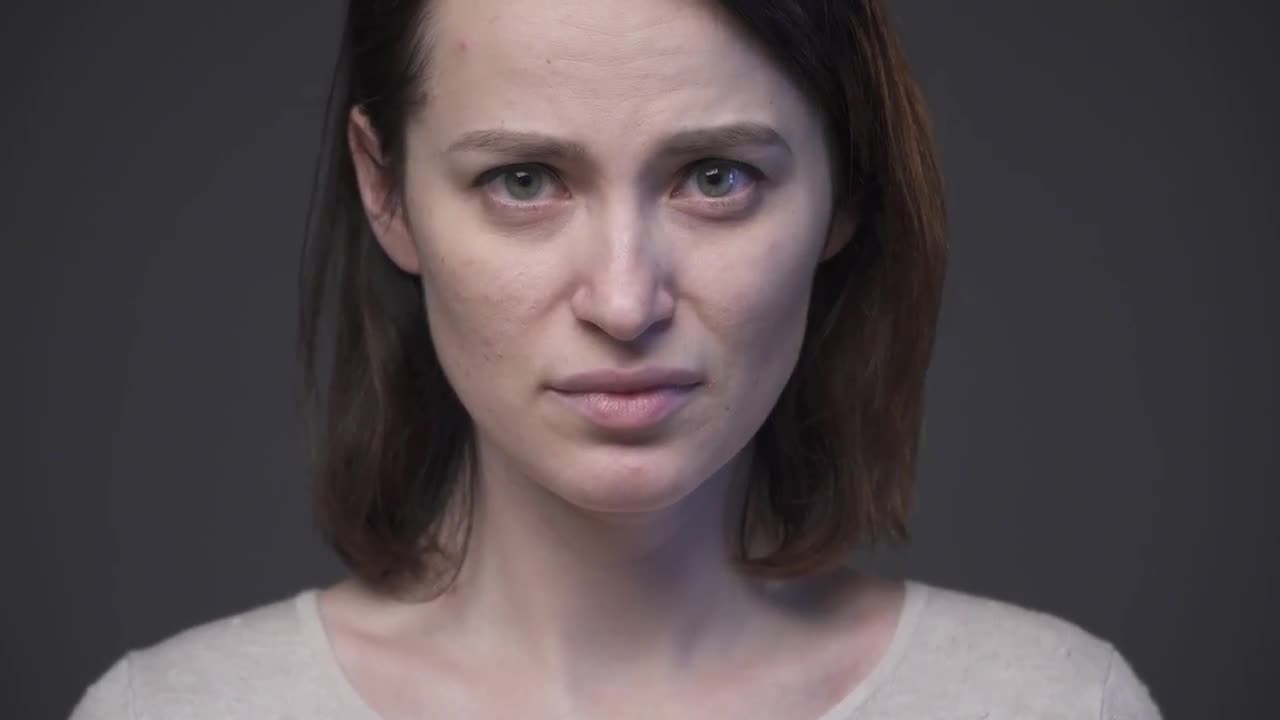NoMask: (448, 100, 795, 494)
